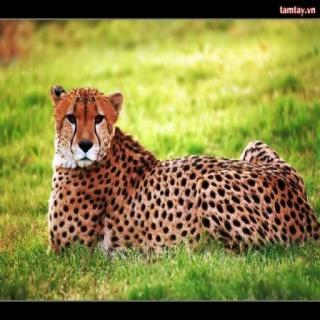Leopard: (32, 76, 320, 262)
